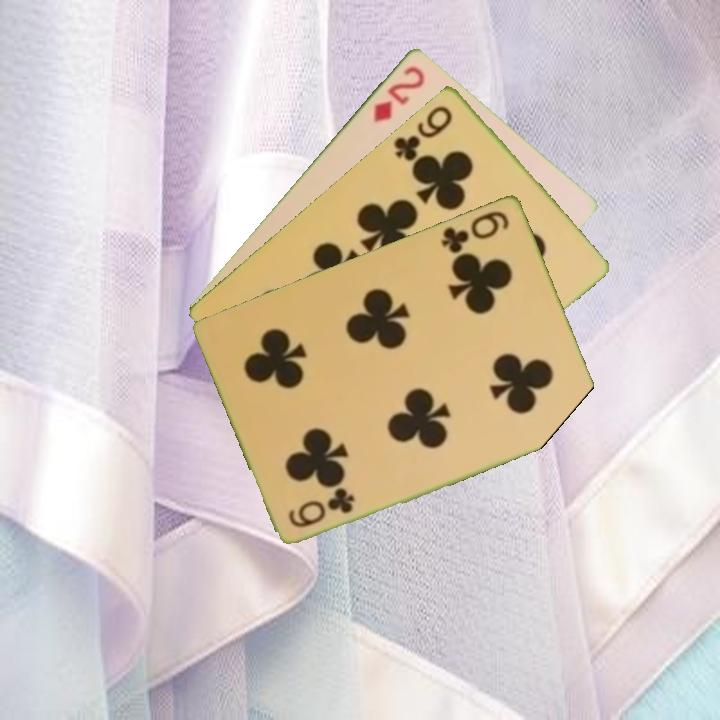2d: (369, 61, 428, 125)
6c: (438, 207, 512, 256), (285, 486, 358, 530)
9c: (390, 101, 455, 164)
